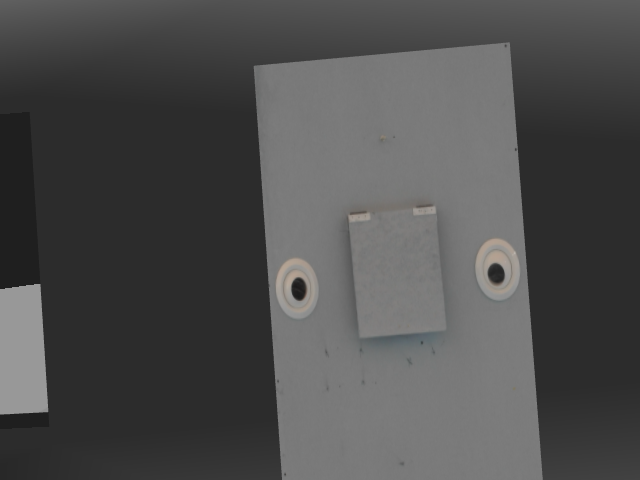facade: (270, 201, 523, 344)
